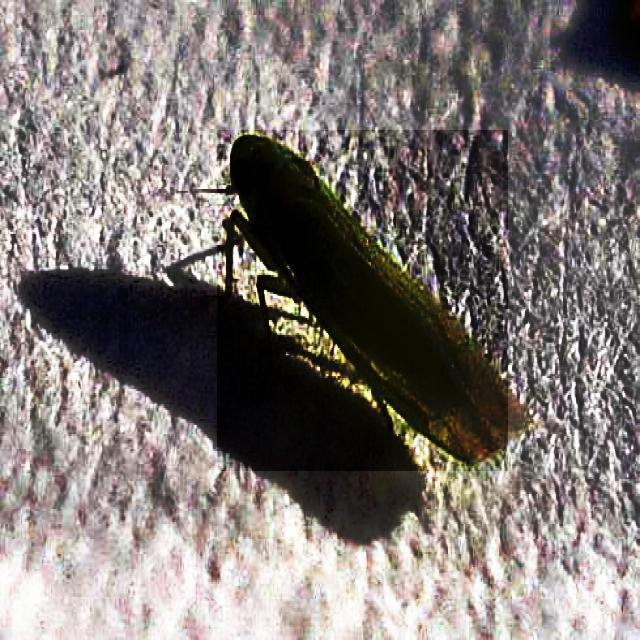green-leafhopper: (217, 130, 508, 471)
